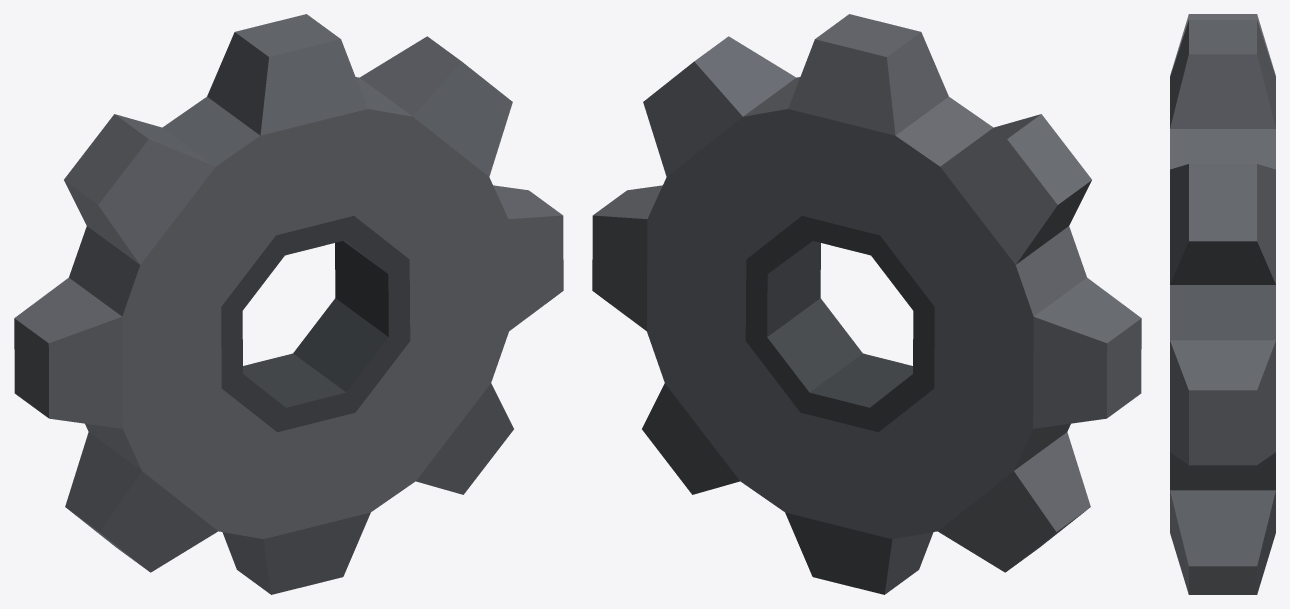
The model's file is SM_Icon_System_01.fbx.
3 views of the same model, side by side, from view 1: azimuth 30°, elevation 25°; view 2: azimuth 150°, elevation 25°; view 3: azimuth 270°, elevation 25° (orthographic).
Parts seen in each view (by area): view 1: SM_Icon_System_01; view 2: SM_Icon_System_01; view 3: SM_Icon_System_01.
Part boxes in pixels (bbox=[...]): SM_Icon_System_01: bbox=[14, 14, 563, 594]; SM_Icon_System_01: bbox=[592, 14, 1141, 594]; SM_Icon_System_01: bbox=[1170, 14, 1275, 594].
Bounding box in the file's own units: 58.24 × 58.24 × 10.48.
